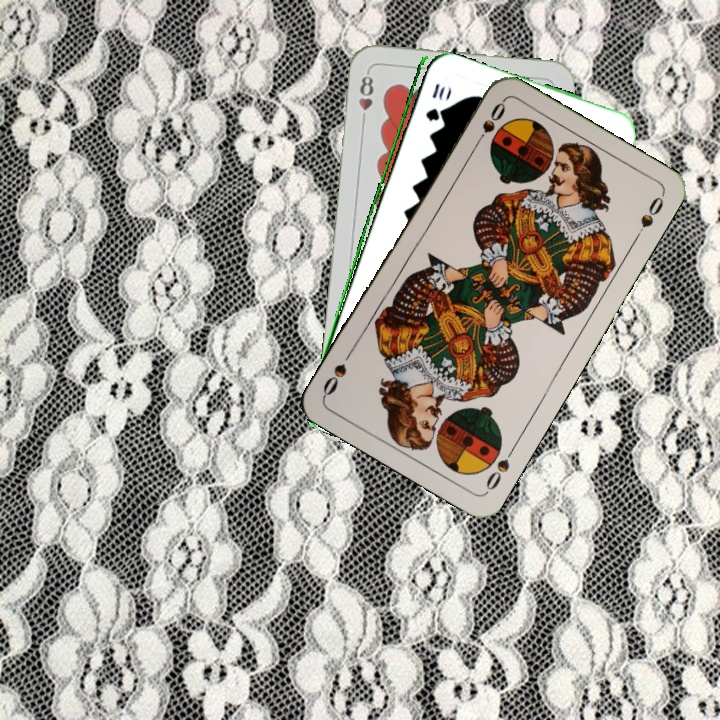G10: (421, 79, 448, 124)
H8: (355, 67, 376, 127)
SO: (470, 98, 509, 151), (482, 442, 518, 495)
